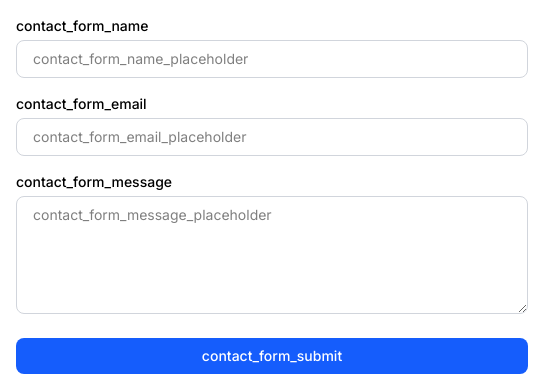
Scenario: ContactForm › shows sending state while submitting
In the field with id "contact-name": {"x": 272, "y": 59} [16,40,528,78], type "Test"
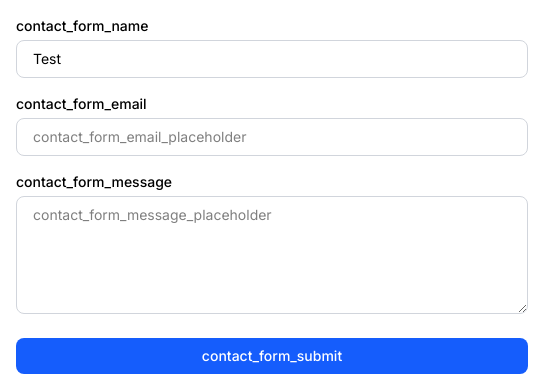
In the field with id "contact-email": {"x": 272, "y": 137} [16,118,528,156], type "test@example.com"
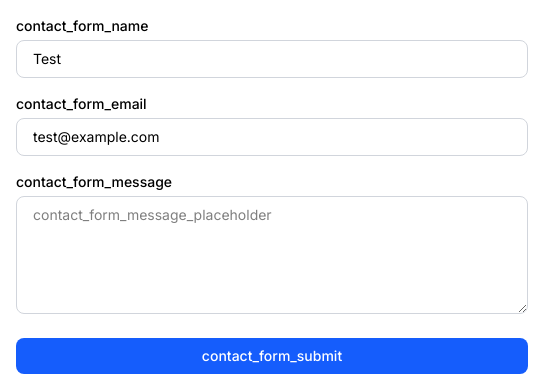
In the text box with id "contact-message": {"x": 272, "y": 255} [16,196,528,314], type "Hello"
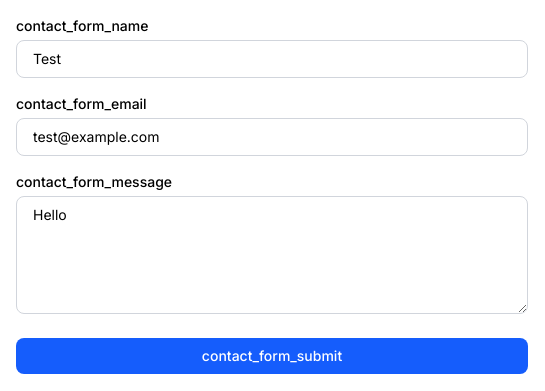
Submit the form
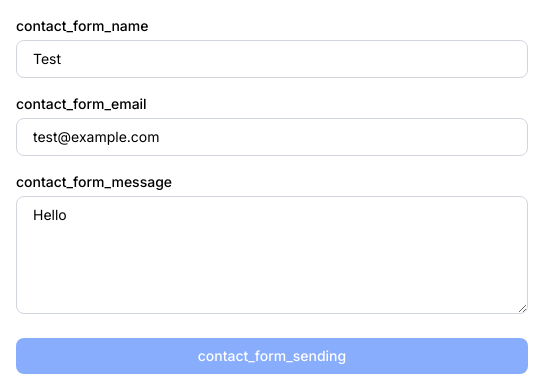
Expected: the submit button reads "contact_form_sending", [16,338,528,374]
